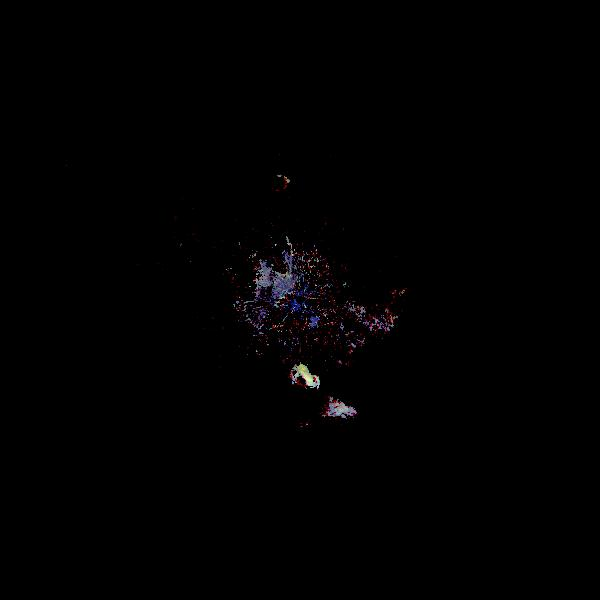roost: (272, 347, 341, 416)
